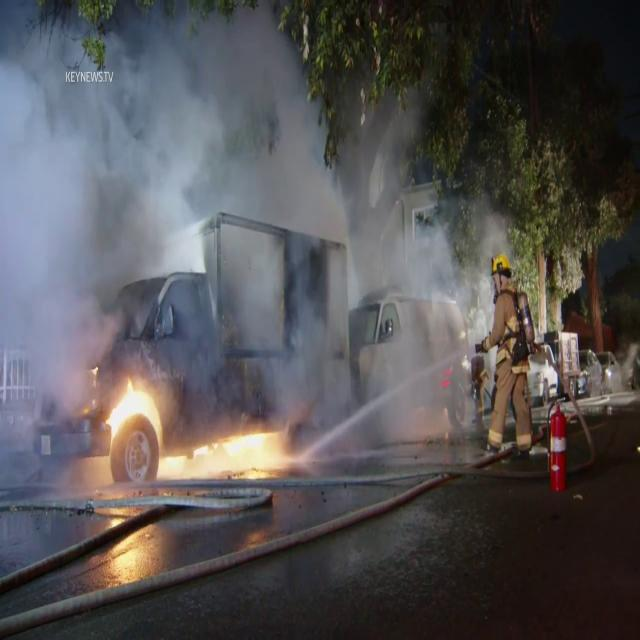Fire: (93, 361, 295, 470)
Smoke: (0, 2, 494, 383)
